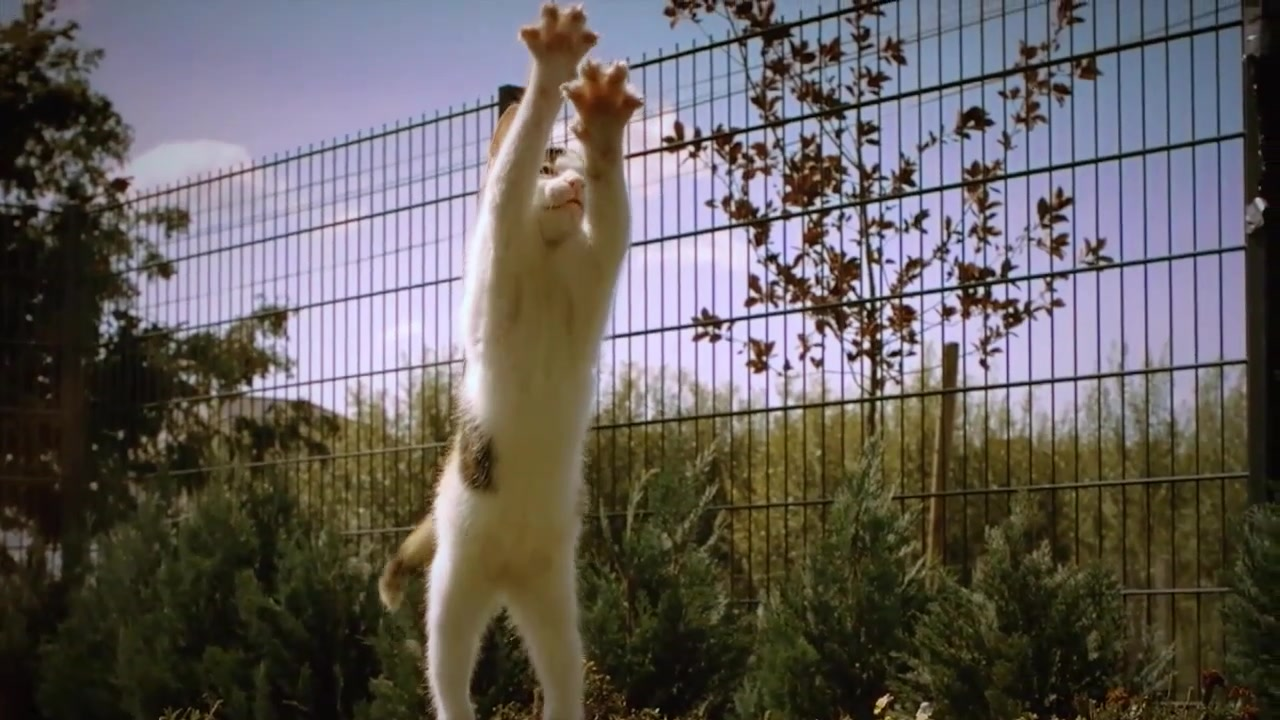cat: (378, 2, 651, 720)
